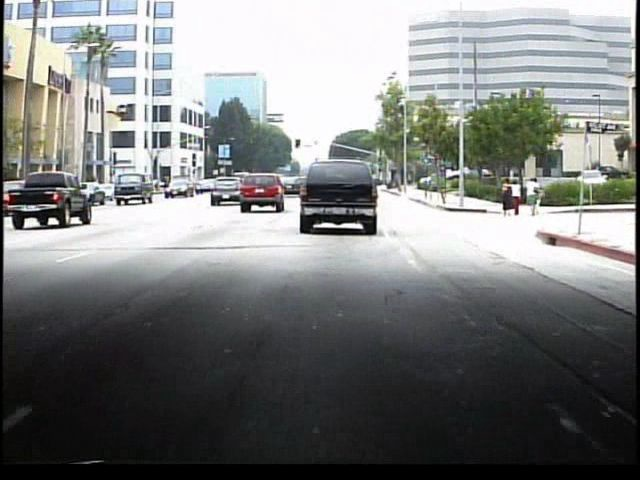person: (525, 177, 541, 220), (497, 178, 512, 216), (510, 179, 523, 218)
